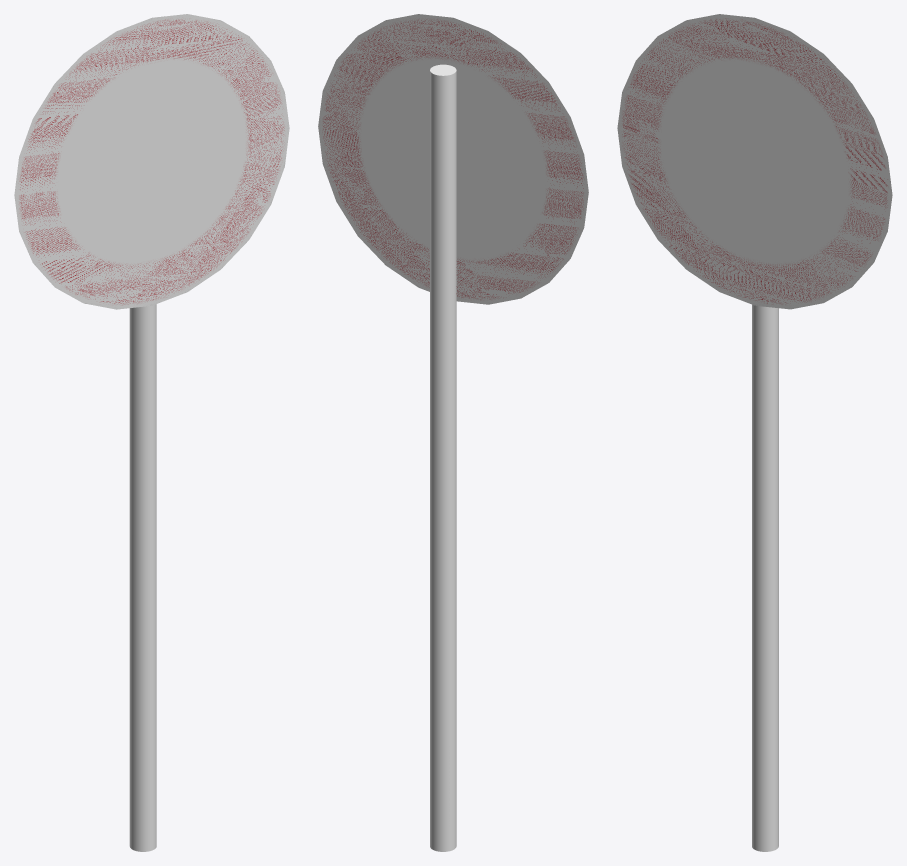
3 renders of one model, left to right at view 1: azimuth 30°, elevation 25°; view 2: azimuth 150°, elevation 25°; view 3: azimuth 330°, elevation 25°, orthographic.
Parts seen in each view (by area): view 1: SketchUp (×2); view 2: SketchUp (×2); view 3: SketchUp (×2).
Part boxes in pixels (x1,y1,x2,y2): SketchUp (×2): (14, 14, 289, 851); SketchUp (×2): (318, 14, 588, 851); SketchUp (×2): (617, 14, 892, 851).
Bounding box in the file's own units: 74.02 × 7.6 × 215.
2 materials, 1 textured.
